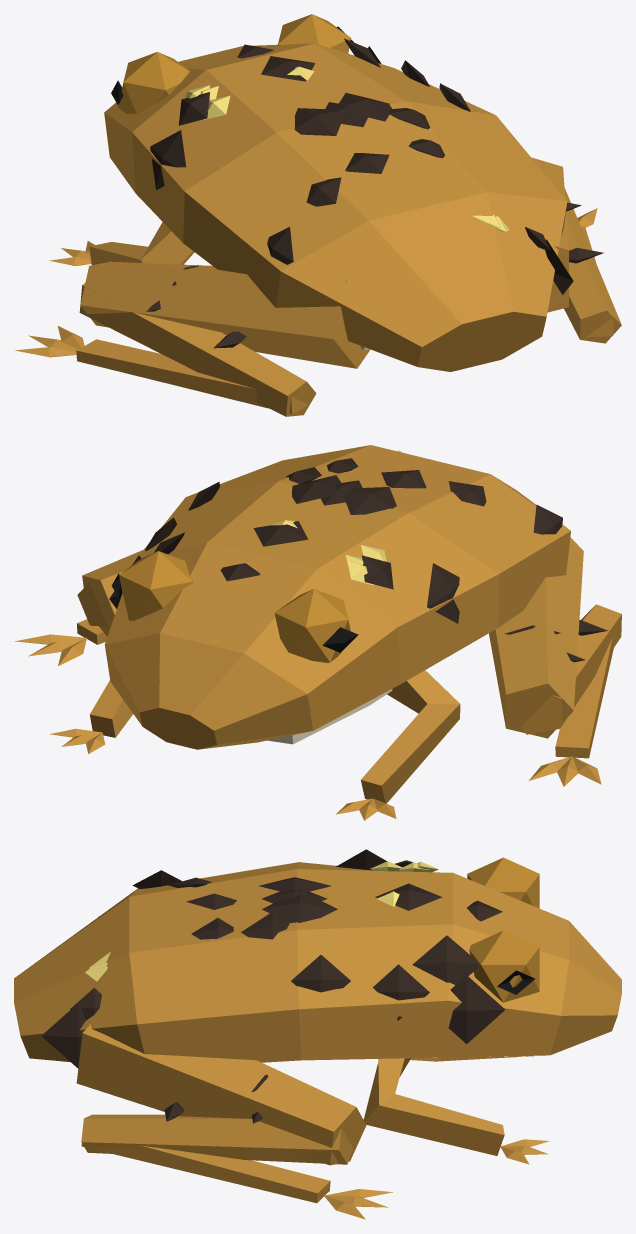
File: ra_das_pedras.glb
3 renders of one model, top to bottom at view 1: azimuth 30°, elevation 25°; view 2: azimuth 150°, elevation 25°; view 3: azimuth 270°, elevation 25°, orthographic. The views are drawn at different scales.
Visible parts, largest first — view 1: corpo; view 2: corpo; view 3: corpo.
Part boxes in pixels (x1=…): corpo: x1=14, y1=14, x2=621, y2=416; corpo: x1=15, y1=445, x2=621, y2=820; corpo: x1=14, y1=849, x2=621, y2=1219.
Bounding box in the file's own units: 1 × 0.3378 × 0.9324.
